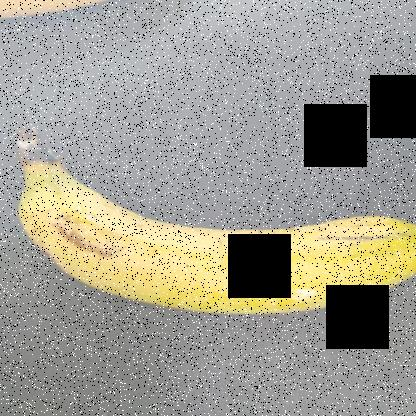ripe: (16, 157, 415, 348)
